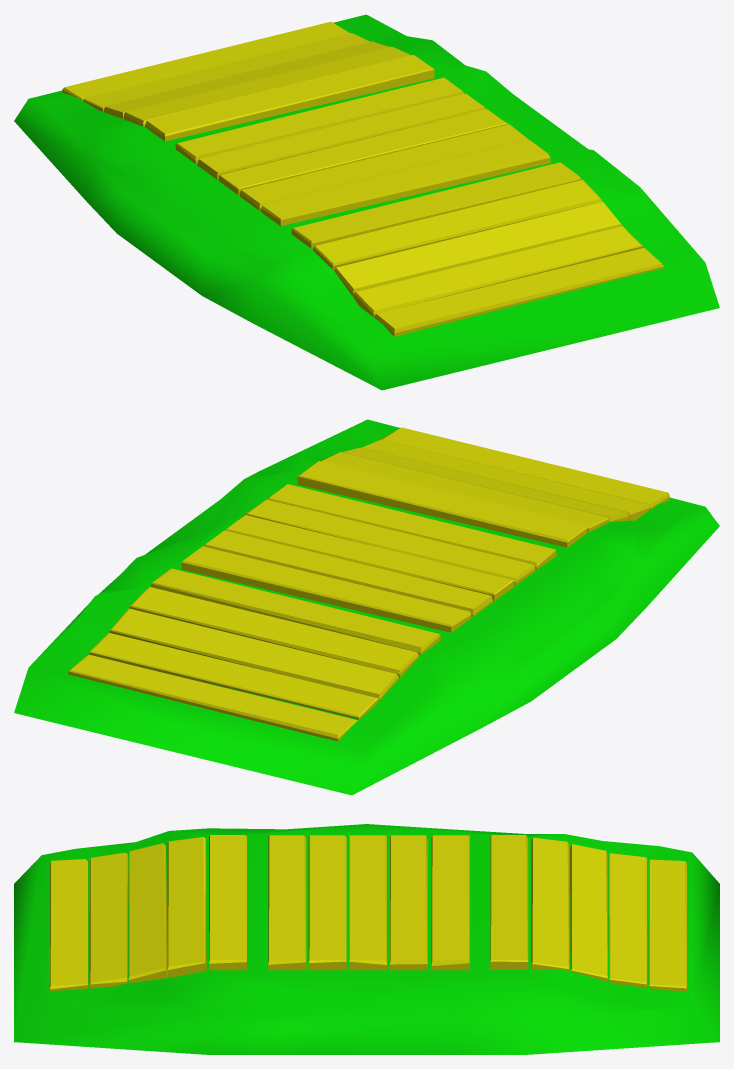
File: Walkover.fbx
3 views of the same model, one above another, from view 1: azimuth 30°, elevation 25°; view 2: azimuth 150°, elevation 25°; view 3: azimuth 270°, elevation 25° (orthographic). The views are drawn at different scales.
Visible parts, largest first — view 1: Walkover_LOD0; view 2: Walkover_LOD0; view 3: Walkover_LOD0.
Boxes of the visible parts, x1,y1,x2,y2 form: Walkover_LOD0: [14, 14, 719, 390]; Walkover_LOD0: [14, 419, 719, 795]; Walkover_LOD0: [14, 824, 719, 1054].
Size of what is drawn, in the model's own units: 273 by 43.05 by 431.
